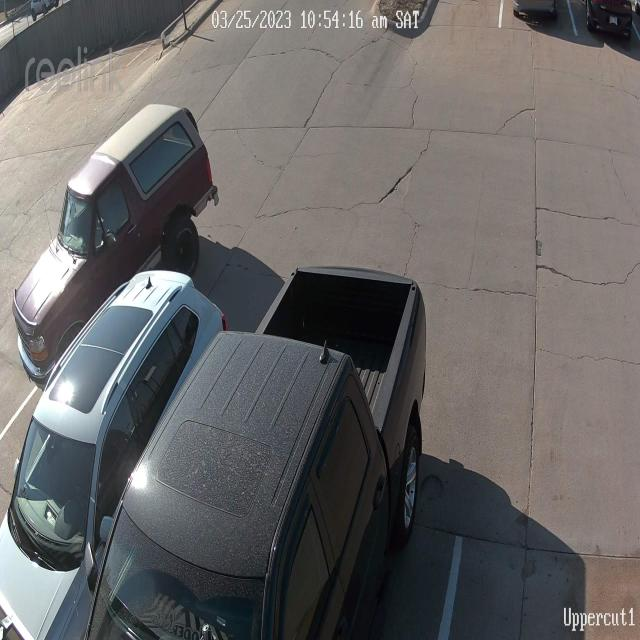Empty-slot: (444, 444, 640, 640)
Slot-Occupied: (113, 331, 414, 640), (5, 271, 226, 640), (13, 104, 220, 387), (584, 0, 638, 52), (515, 1, 560, 33)
